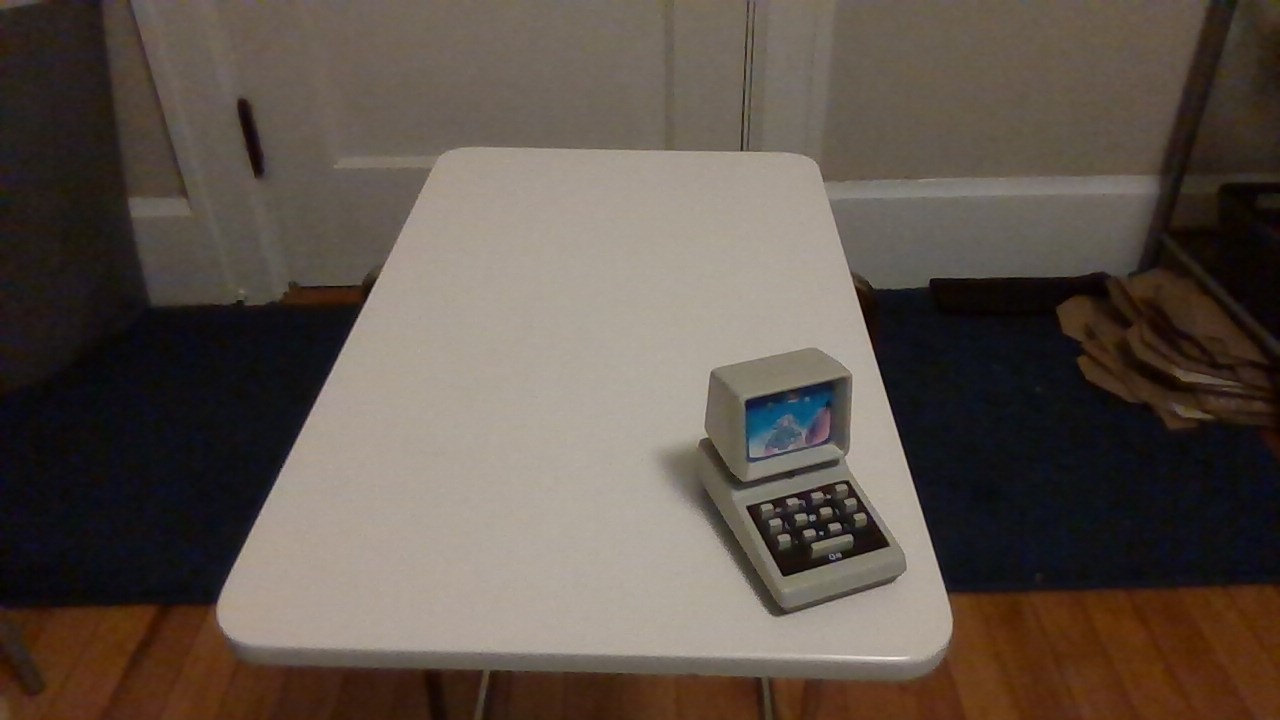Toy: (679, 335, 935, 626)
